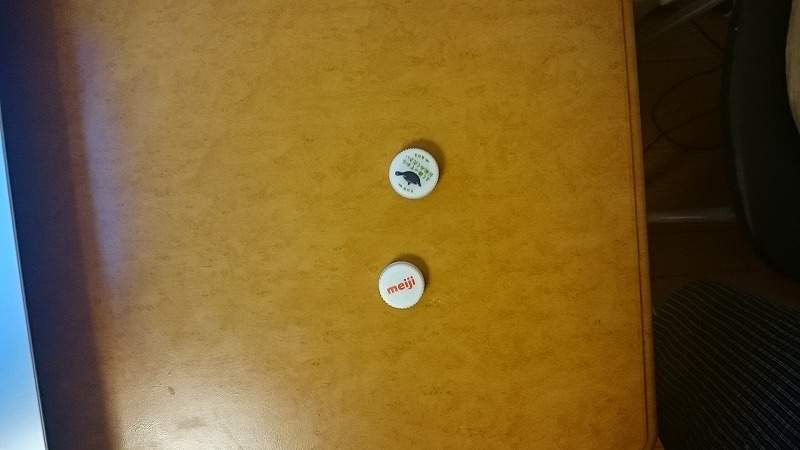A: (382, 145, 448, 202)
B: (376, 260, 430, 312)
